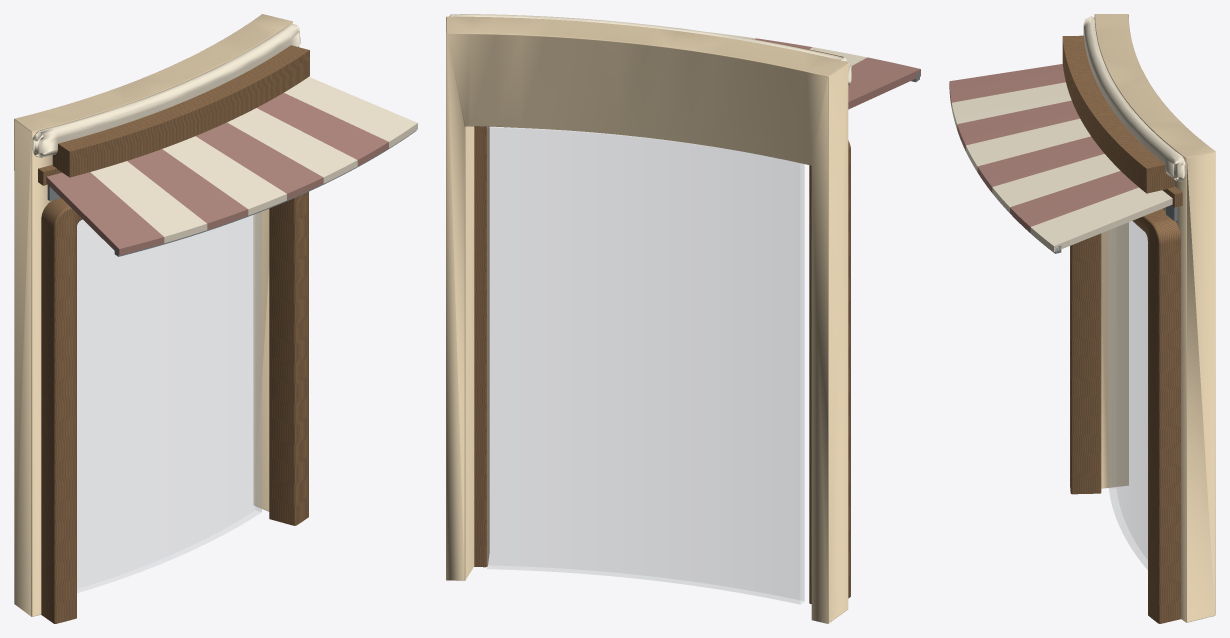
The model's file is ArcShopfront_R4_A30.glb.
3 views of the same model, side by side, from view 1: azimuth 30°, elevation 25°; view 2: azimuth 150°, elevation 25°; view 3: azimuth 270°, elevation 25° (orthographic). The views are drawn at different scales.
Visible parts, largest first — view 1: PBK_Arc_PBK_glass.002, PBK_Continuous_Frame_Indochine_Shopfront.003, PBK_substrate.001, PBK_Arc_PBK_signboard.006, PBK_floor_band.001, PBK_Arc_PBK_awning_stripe.006, PBK_Arc_PBK_awning_stripe.007, PBK_Arc_PBK_awning_stripe.011, PBK_Arc_PBK_awning_stripe.012, PBK_Arc_PBK_awning_stripe.013, PBK_Arc_PBK_awning_stripe.014, PBK_Arc_PBK_awning_stripe.015 (+1 smaller); view 2: PBK_Arc_PBK_glass.002, PBK_substrate.001, PBK_Continuous_Frame_Indochine_Shopfront.003, PBK_Arc_PBK_awning_stripe.006, PBK_floor_band.001; view 3: PBK_substrate.001, PBK_Continuous_Frame_Indochine_Shopfront.003, PBK_Arc_PBK_glass.002, PBK_Arc_PBK_signboard.006, PBK_Arc_PBK_awning_stripe.022, PBK_floor_band.001, PBK_Arc_PBK_awning_stripe.015, PBK_Arc_PBK_awning_stripe.014, PBK_Arc_PBK_awning_stripe.013, PBK_Arc_PBK_awning_stripe.012, PBK_Arc_PBK_awning_stripe.011, PBK_Arc_PBK_awning_stripe.007 (+1 smaller).
Part boxes in pixels (x1,y1,x2,y2): PBK_Arc_PBK_glass.002: (77, 212, 261, 592); PBK_Continuous_Frame_Indochine_Shopfront.003: (41, 192, 308, 623); PBK_substrate.001: (14, 14, 292, 616); PBK_Arc_PBK_signboard.006: (52, 45, 309, 177); PBK_floor_band.001: (32, 24, 300, 157); PBK_Arc_PBK_awning_stripe.006: (46, 172, 164, 255); PBK_Arc_PBK_awning_stripe.007: (90, 161, 207, 243); PBK_Arc_PBK_awning_stripe.011: (127, 149, 248, 229); PBK_Arc_PBK_awning_stripe.012: (162, 136, 286, 215); PBK_Arc_PBK_awning_stripe.013: (196, 122, 323, 199); PBK_Arc_PBK_awning_stripe.014: (227, 108, 357, 183); PBK_Arc_PBK_awning_stripe.015: (257, 93, 388, 165); PBK_Arc_PBK_glass.002: (487, 127, 804, 604); PBK_substrate.001: (446, 16, 848, 623); PBK_Continuous_Frame_Indochine_Shopfront.003: (474, 126, 850, 603); PBK_Arc_PBK_awning_stripe.006: (848, 57, 920, 109); PBK_floor_band.001: (449, 14, 851, 86); PBK_substrate.001: (1094, 14, 1215, 622); PBK_Continuous_Frame_Indochine_Shopfront.003: (1070, 209, 1180, 623); PBK_Arc_PBK_glass.002: (1109, 221, 1147, 569); PBK_Arc_PBK_signboard.006: (1062, 35, 1173, 193); PBK_Arc_PBK_awning_stripe.022: (1030, 187, 1172, 252); PBK_floor_band.001: (1083, 16, 1185, 181); PBK_Arc_PBK_awning_stripe.015: (1010, 171, 1138, 232); PBK_Arc_PBK_awning_stripe.014: (992, 154, 1120, 212); PBK_Arc_PBK_awning_stripe.013: (977, 136, 1104, 192); PBK_Arc_PBK_awning_stripe.012: (966, 118, 1090, 172); PBK_Arc_PBK_awning_stripe.011: (957, 100, 1079, 151); PBK_Arc_PBK_awning_stripe.007: (951, 82, 1071, 129).
Size of the model in its own units: 2.36 by 3 by 1.56.
Materials: 7 (2 with a texture image).
